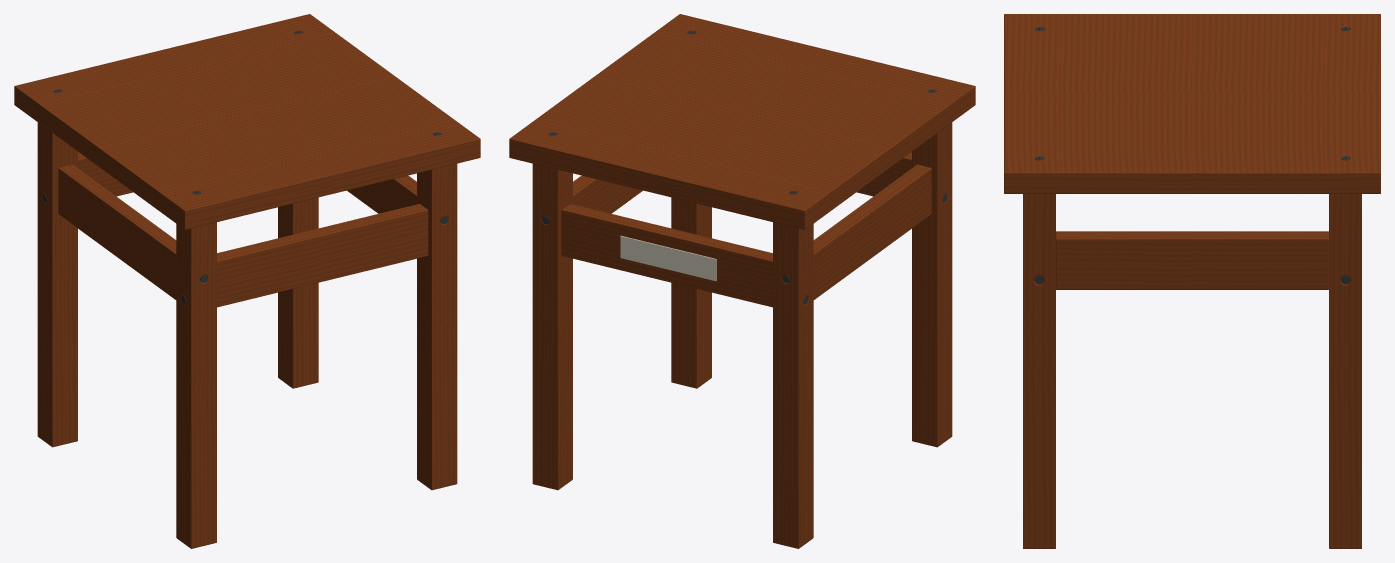
File: Hocker01_Finish.fbx
3 renders of one model, left to right at view 1: azimuth 30°, elevation 25°; view 2: azimuth 150°, elevation 25°; view 3: azimuth 270°, elevation 25°, orthographic. The views are drawn at different scales.
Parts seen in each view (by area): view 1: Seat__WoodFinish.009, Leg_1__WoodFinish.009, Leg_3__WoodFinish.009, RailX_1__WoodFinish.009, Leg_2__WoodFinish.009, RailY_1__WoodFinish.009, Leg_4__WoodFinish.009, RailY_2__WoodFinish.009, RailX_2__WoodFinish.009; view 2: Seat__WoodFinish.009, Leg_2__WoodFinish.009, Leg_4__WoodFinish.009, Leg_1__WoodFinish.009, RailX_2__WoodFinish.009, RailY_1__WoodFinish.009, Leg_3__WoodFinish.009, StagePlaque__Label.019, RailY_2__WoodFinish.009, RailX_1__WoodFinish.009; view 3: Seat__WoodFinish.009, RailY_2__WoodFinish.009, Leg_3__WoodFinish.009, Leg_4__WoodFinish.009.
Part boxes in pixels (left/top/right/bottom): Seat__WoodFinish.009: left=14, top=14, right=480, bottom=229; Leg_1__WoodFinish.009: left=176, top=222, right=216, bottom=548; Leg_3__WoodFinish.009: left=417, top=163, right=457, bottom=490; RailX_1__WoodFinish.009: left=217, top=204, right=428, bottom=307; Leg_2__WoodFinish.009: left=37, top=122, right=77, bottom=447; RailY_1__WoodFinish.009: left=58, top=164, right=176, bottom=299; Leg_4__WoodFinish.009: left=278, top=197, right=318, bottom=388; RailY_2__WoodFinish.009: left=347, top=175, right=416, bottom=213; RailX_2__WoodFinish.009: left=78, top=152, right=132, bottom=196; Seat__WoodFinish.009: left=509, top=14, right=975, bottom=229; Leg_2__WoodFinish.009: left=773, top=222, right=813, bottom=548; Leg_4__WoodFinish.009: left=532, top=163, right=572, bottom=490; Leg_1__WoodFinish.009: left=912, top=122, right=952, bottom=447; RailX_2__WoodFinish.009: left=561, top=204, right=772, bottom=307; RailY_1__WoodFinish.009: left=813, top=164, right=931, bottom=299; Leg_3__WoodFinish.009: left=671, top=197, right=711, bottom=388; StagePlaque__Label.019: left=620, top=235, right=716, bottom=281; RailY_2__WoodFinish.009: left=573, top=175, right=642, bottom=213; RailX_1__WoodFinish.009: left=857, top=152, right=911, bottom=196; Seat__WoodFinish.009: left=1004, top=14, right=1380, bottom=193; RailY_2__WoodFinish.009: left=1056, top=231, right=1328, bottom=289; Leg_3__WoodFinish.009: left=1023, top=194, right=1055, bottom=548; Leg_4__WoodFinish.009: left=1329, top=194, right=1361, bottom=548.
Bounding box in the file's own units: 40 × 45 × 40.
4 materials, 1 textured.
